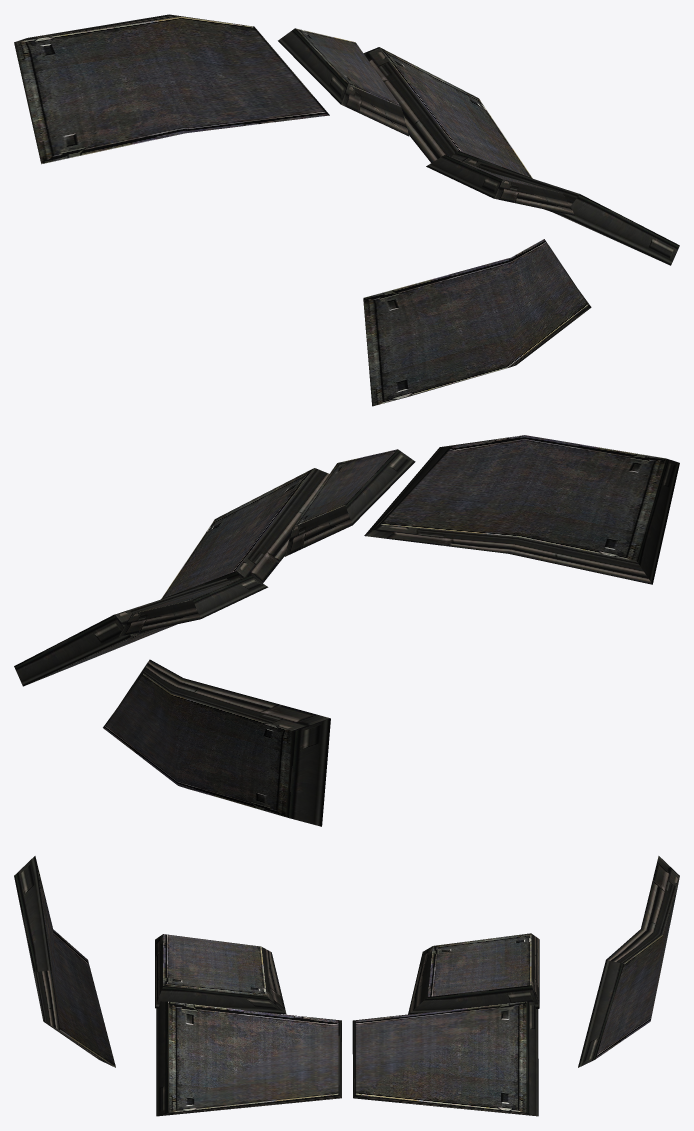
The model's file is constructor_unit_iron.obj.
3 renders of one model, top to bottom at view 1: azimuth 30°, elevation 25°; view 2: azimuth 150°, elevation 25°; view 3: azimuth 270°, elevation 25°, orthographic. The views are drawn at different scales.
Visible parts, largest first — view 1: polySurface55; view 2: polySurface55; view 3: polySurface55.
Part boxes in pixels (box(x1,y1,x2,y2)): polySurface55: box(14, 14, 679, 406); polySurface55: box(14, 435, 679, 826); polySurface55: box(14, 856, 679, 1116).
Size of the model in its own units: 20.95 by 6.9 by 34.6.
1 material, 1 textured.
